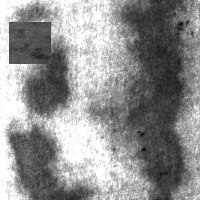patches: (125, 1, 187, 195), (9, 122, 84, 198), (21, 40, 68, 119), (9, 1, 49, 28)
rolled-in_scale: (9, 22, 51, 64)
